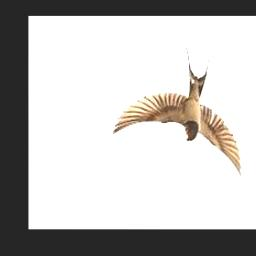Swallow: (113, 43, 243, 179)
